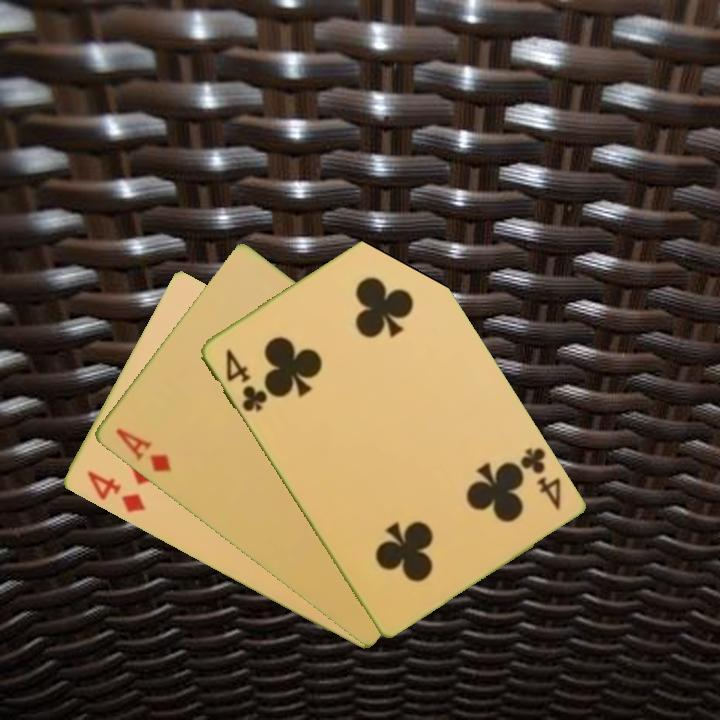4c: (221, 345, 270, 415), (516, 443, 564, 513)
4d: (82, 467, 148, 516)
Ad: (111, 424, 174, 476)
